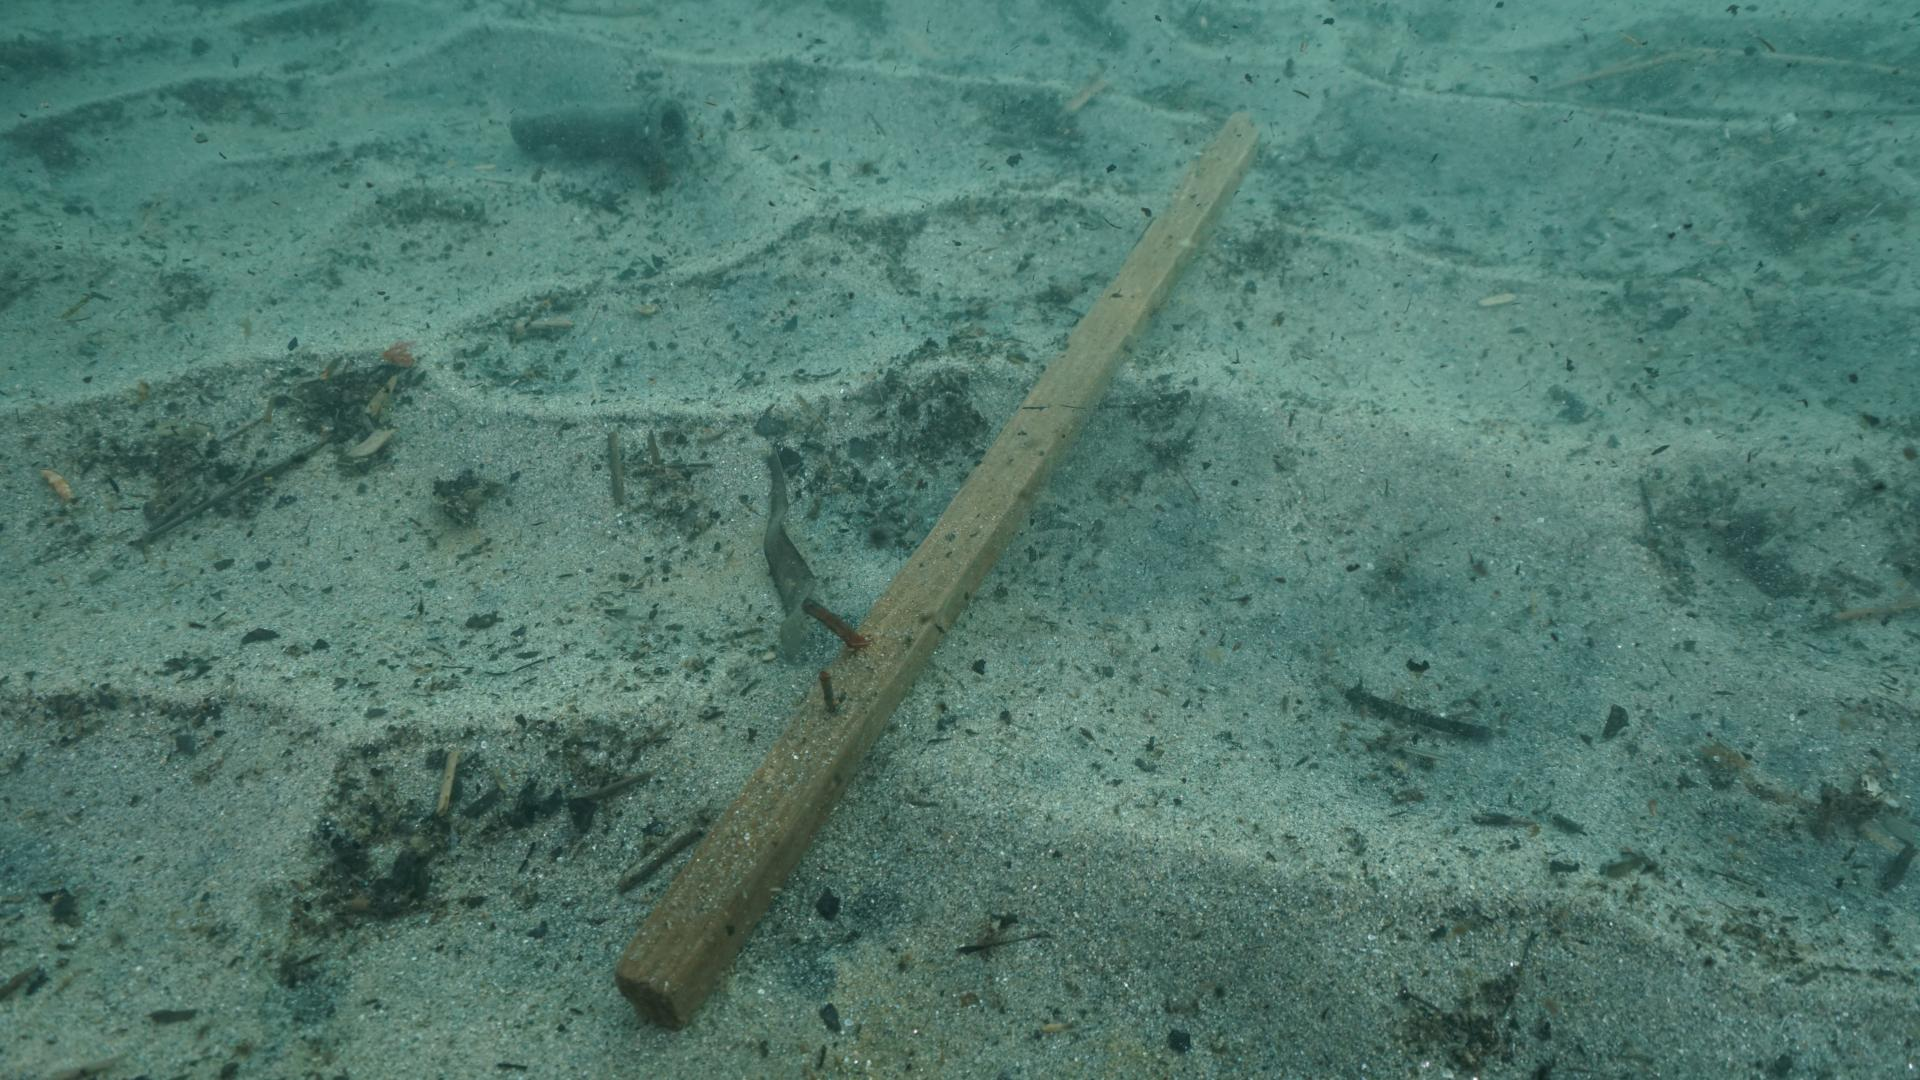wood: (613, 108, 1262, 1025)
